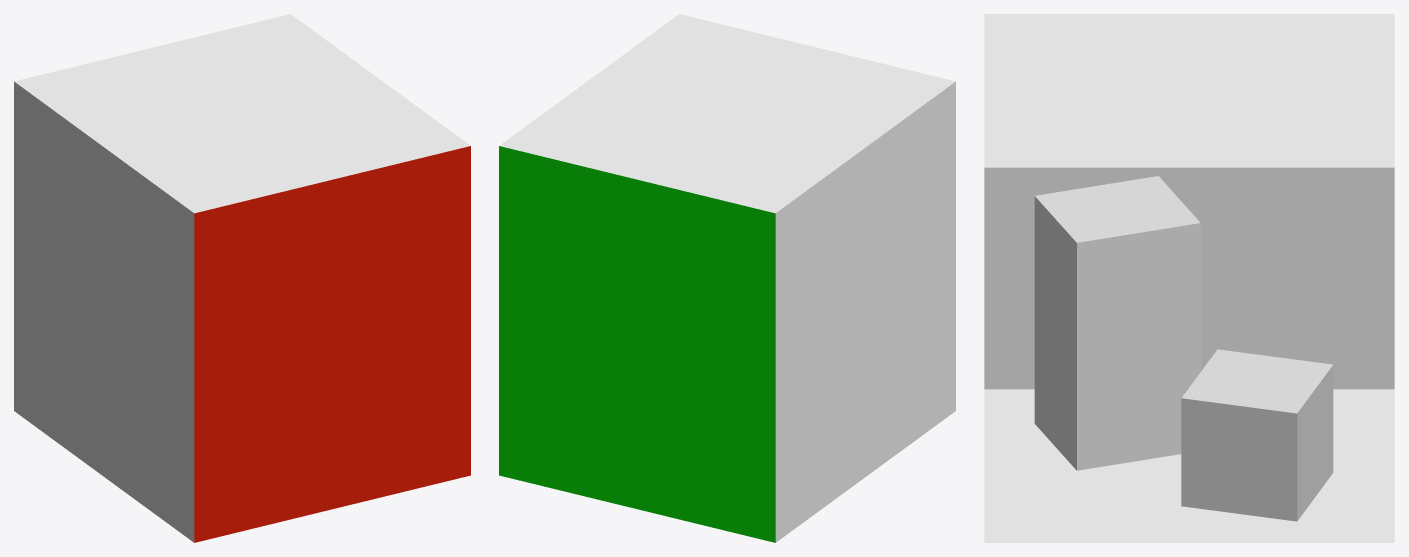
File: cornell box.glb
The picture shows the model from 3 angles, left to right: view 1: azimuth 30°, elevation 25°; view 2: azimuth 150°, elevation 25°; view 3: azimuth 270°, elevation 25°; orthographic projection. The views are drawn at different scales.
Parts seen in each view (by area): view 1: Plane.003, Plane.001, Plane.004; view 2: Plane.002, Plane.001, Plane.004; view 3: Plane.004, Plane.001, Cube.001, Plane, Cube.
Boxes of the visible parts, <box> form: Plane.003: <box>194,146,470,542</box>; Plane.001: <box>14,81,194,542</box>; Plane.004: <box>14,14,470,213</box>; Plane.002: <box>499,146,775,542</box>; Plane.001: <box>775,81,955,542</box>; Plane.004: <box>499,14,955,213</box>; Plane.004: <box>984,14,1394,167</box>; Plane.001: <box>984,167,1394,389</box>; Cube.001: <box>1034,176,1200,470</box>; Plane: <box>984,389,1394,542</box>; Cube: <box>1181,349,1333,521</box>.
Bounding box in the file's own units: 3.65 × 4.18 × 4.12.
